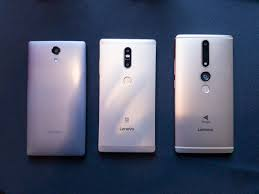lenovo: (173, 31, 235, 157), (95, 34, 157, 160), (25, 34, 87, 160)
